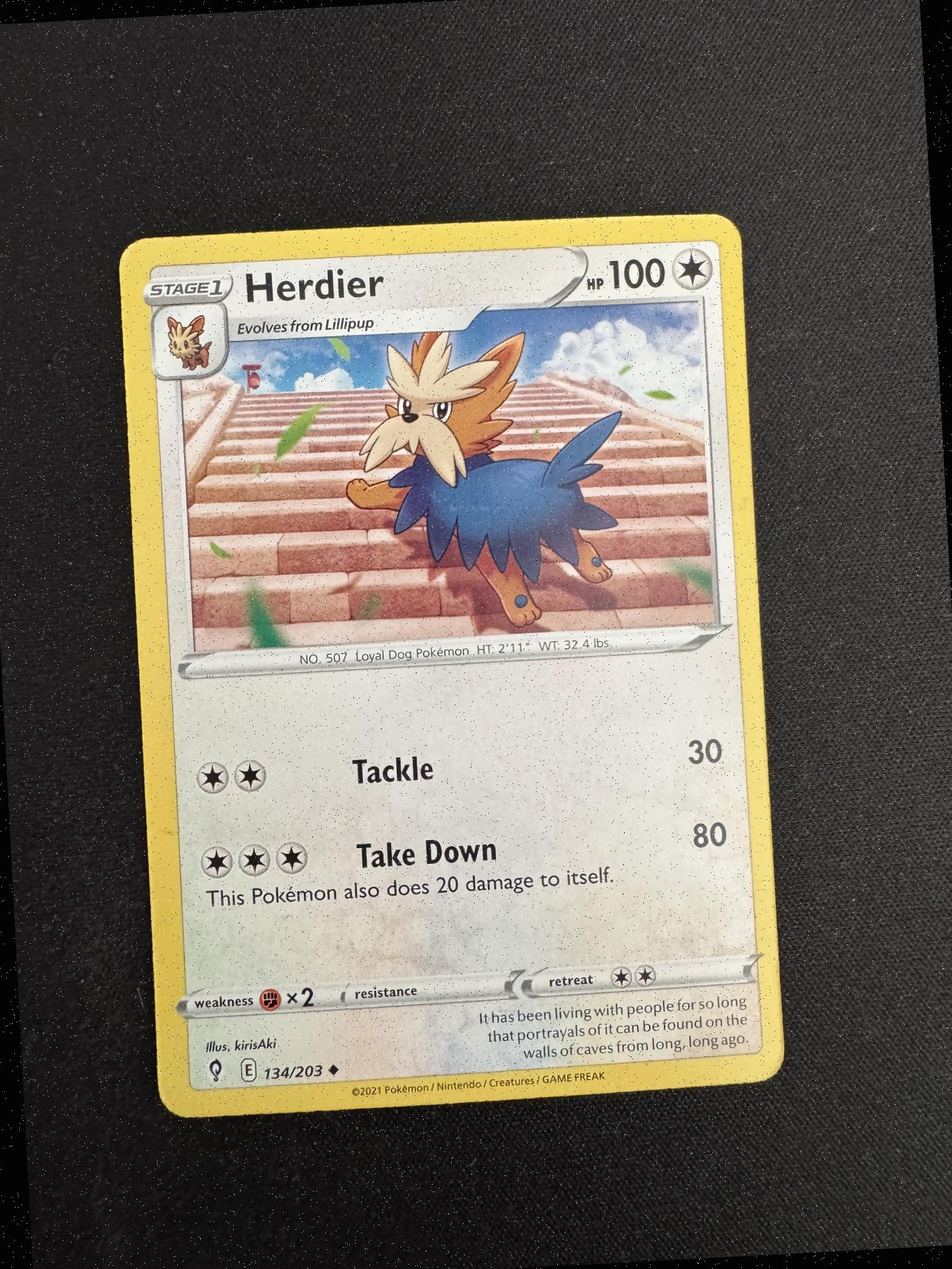card-2UtV: (119, 213, 784, 1117)
